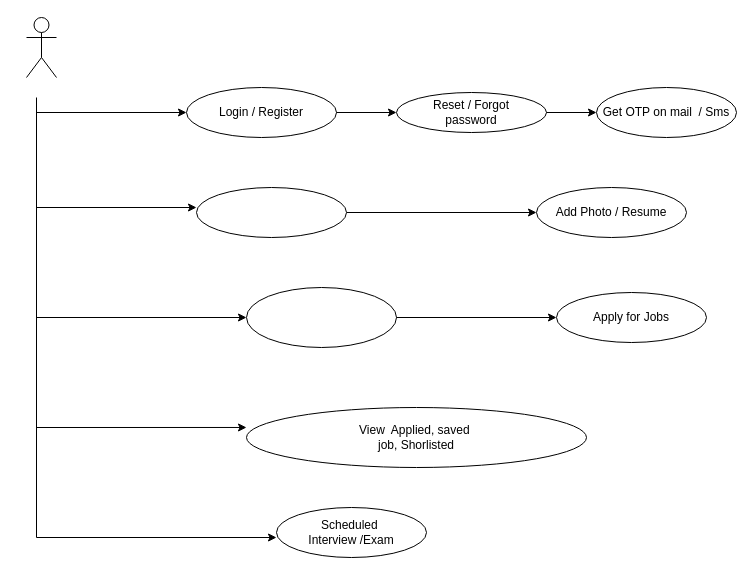
The diagram is 754 pixels wide and 575 high, and some of its shapes have lost their labels. The centre of each missing label's shape, as x and y in pixels:
"Applicant" goes at (x=41, y=47).
"Browse Job" goes at (x=321, y=317).
"Enter Info /Update/ View Profile" goes at (x=271, y=212).
